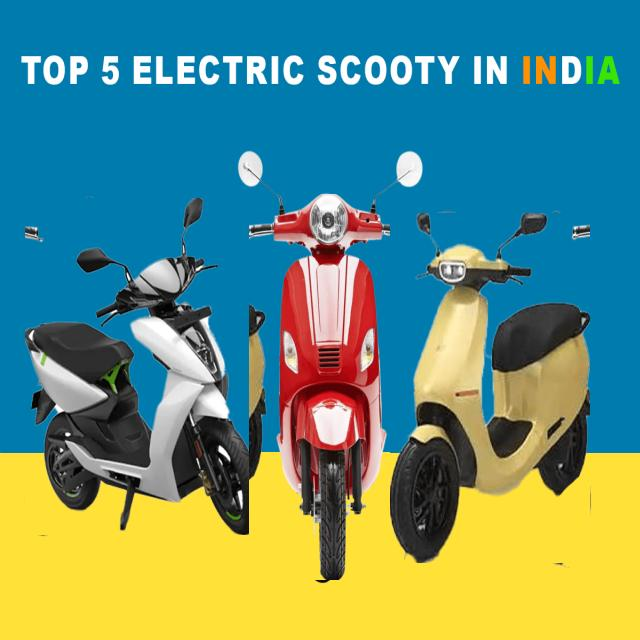motorcycle: (25, 198, 262, 535), (390, 214, 590, 563), (249, 195, 406, 580)
